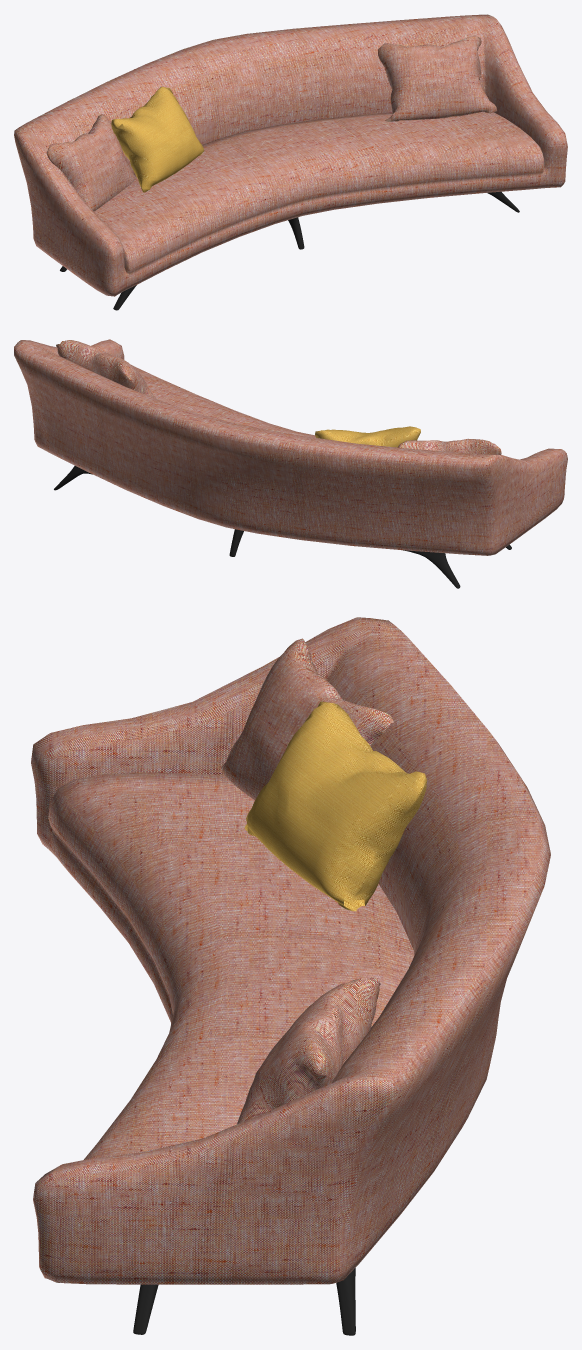
File: CGT_Sofa_002.glb
3 renders of one model, top to bottom at view 1: azimuth 30°, elevation 25°; view 2: azimuth 150°, elevation 25°; view 3: azimuth 270°, elevation 25°, orthographic. The views are drawn at different scales.
Parts seen in each view (by area): view 1: CGT_Sofa_002; view 2: CGT_Sofa_002; view 3: CGT_Sofa_002.
Part boxes in pixels (x1,y1,x2,y2): CGT_Sofa_002: [14, 14, 567, 310]; CGT_Sofa_002: [14, 339, 567, 588]; CGT_Sofa_002: [31, 617, 550, 1335].
Size of the model in its own units: 2.84 by 0.8302 by 1.33.
Materials: 3 (2 with a texture image).
